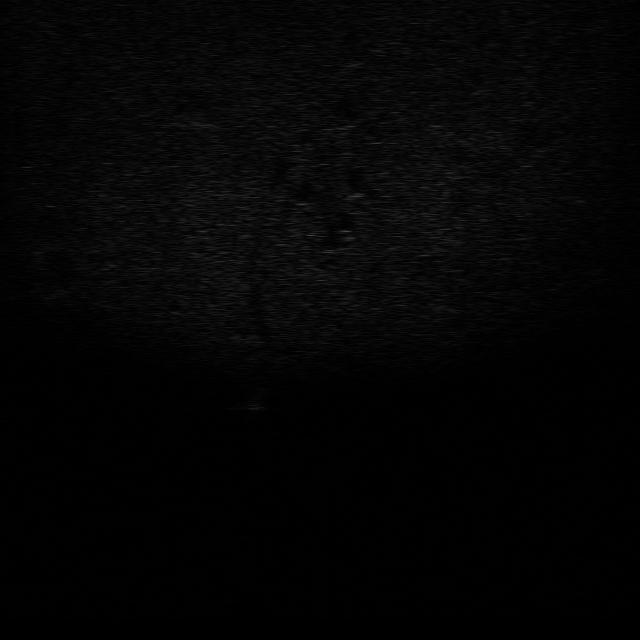human body: (235, 382, 273, 424)
